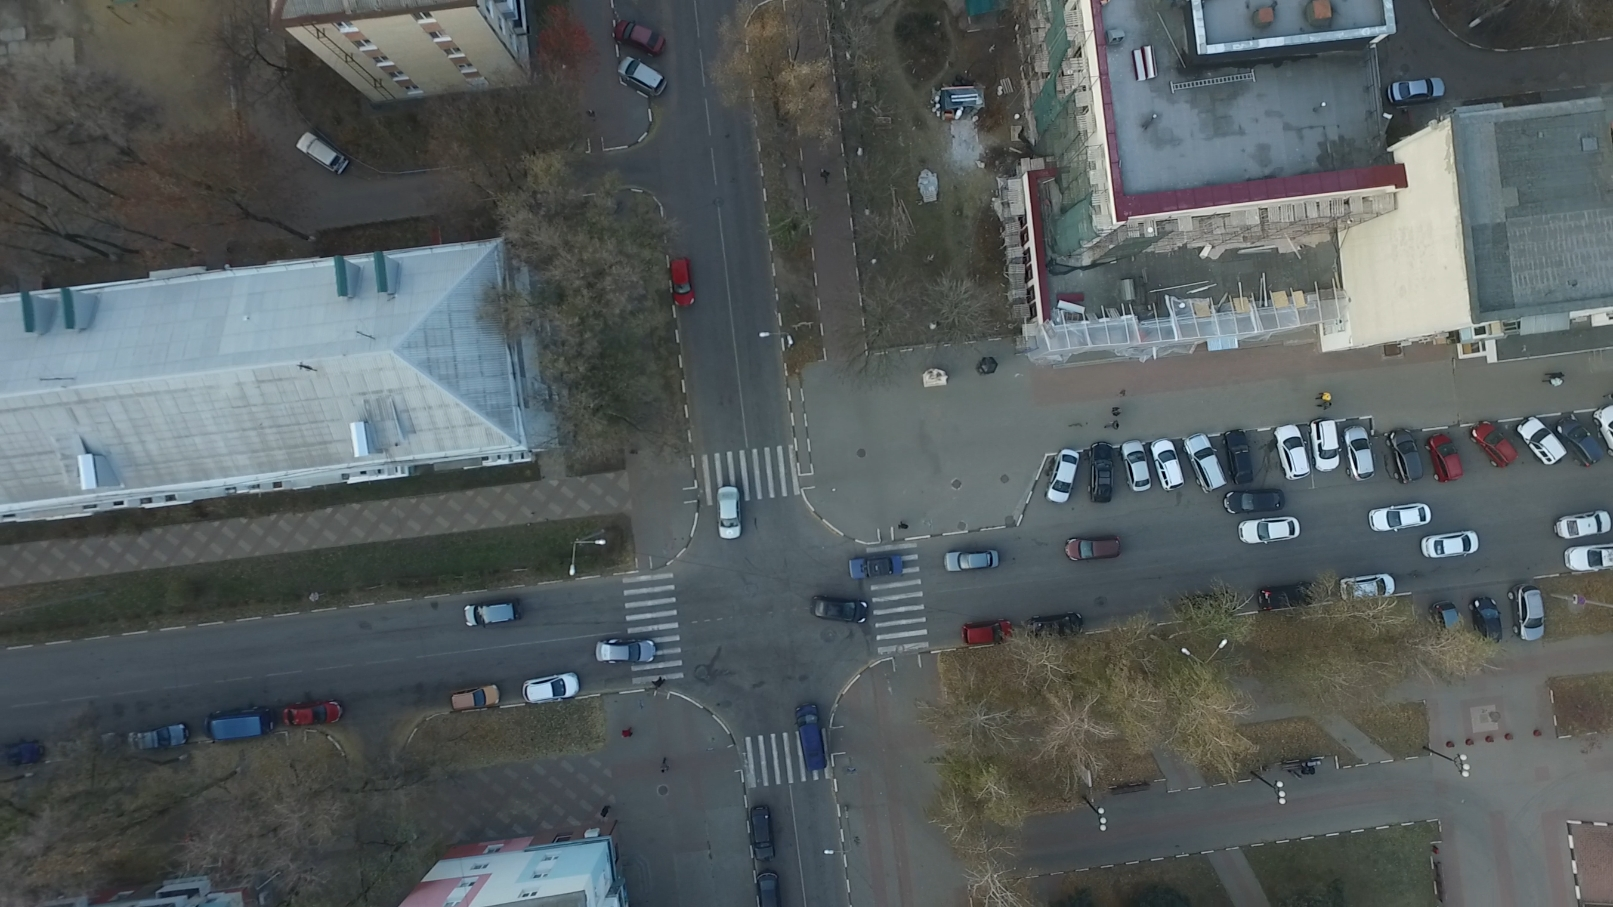car: (295, 128, 352, 177), (1554, 413, 1602, 468), (1182, 434, 1223, 494), (1508, 580, 1547, 643), (201, 711, 273, 744), (1083, 443, 1120, 508), (813, 589, 871, 630), (1516, 415, 1563, 464), (1042, 447, 1083, 503), (1384, 426, 1421, 486), (1367, 499, 1430, 535), (1149, 439, 1186, 497), (795, 702, 828, 770), (1471, 420, 1516, 468), (1272, 423, 1307, 484), (520, 671, 579, 707), (619, 53, 666, 97), (1426, 433, 1467, 482), (1222, 427, 1255, 487), (1342, 425, 1377, 480), (1255, 577, 1315, 609), (1223, 485, 1286, 515), (50, 732, 120, 759), (280, 698, 345, 726), (593, 638, 657, 666), (1338, 571, 1394, 604), (1311, 416, 1340, 474), (615, 20, 667, 52), (1421, 529, 1479, 558), (1021, 611, 1081, 639), (1121, 437, 1151, 493), (1470, 597, 1502, 648), (1553, 509, 1612, 537), (1239, 516, 1301, 542), (1385, 78, 1444, 104), (464, 599, 520, 627), (1177, 592, 1232, 620), (715, 486, 742, 542), (125, 725, 188, 749), (942, 548, 1000, 573), (960, 620, 1014, 647), (1429, 600, 1460, 646), (1064, 537, 1123, 560), (1561, 545, 1612, 571), (752, 804, 775, 862), (2, 736, 43, 767), (449, 686, 501, 710), (844, 557, 900, 579), (671, 255, 694, 306), (756, 870, 779, 907)
